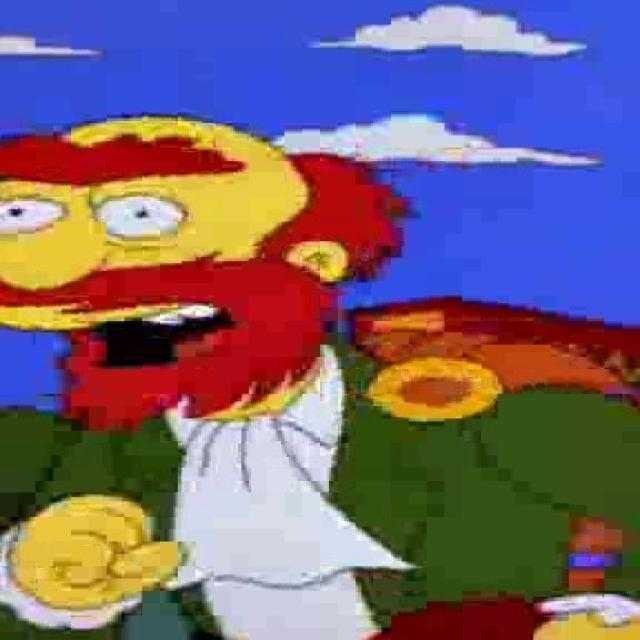Groundskeeper Willie: (1, 111, 426, 440)
